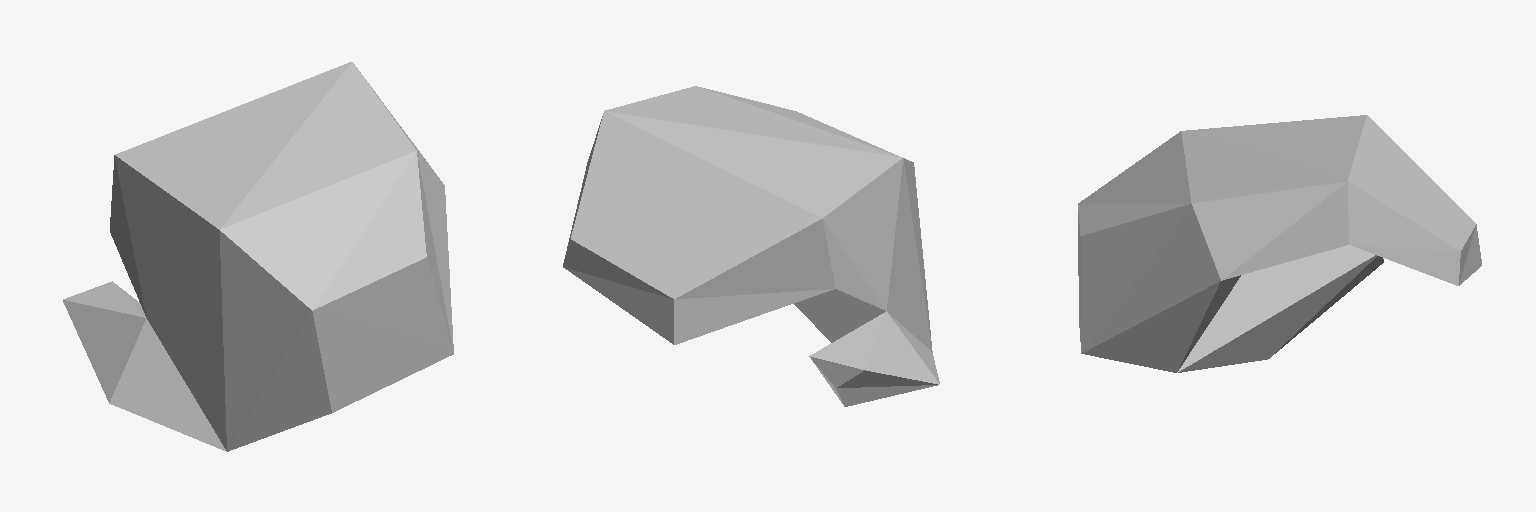
Rendered from Mano2.obj.
3 views of the same model, side by side, from view 1: azimuth 30°, elevation 25°; view 2: azimuth 150°, elevation 25°; view 3: azimuth 270°, elevation 25° (orthographic).
Visible parts, largest first — view 1: polySurface11 polySurface10 polySurface7 polySurface4 polySurfac; view 2: polySurface11 polySurface10 polySurface7 polySurface4 polySurfac; view 3: polySurface11 polySurface10 polySurface7 polySurface4 polySurfac.
Part boxes in pixels (bbox=[...]): polySurface11 polySurface10 polySurface7 polySurface4 polySurfac: bbox=[63, 62, 453, 451]; polySurface11 polySurface10 polySurface7 polySurface4 polySurfac: bbox=[563, 86, 939, 406]; polySurface11 polySurface10 polySurface7 polySurface4 polySurfac: bbox=[1078, 115, 1481, 372].
Size of the model in its own units: 0.209 by 0.1729 by 0.2295.